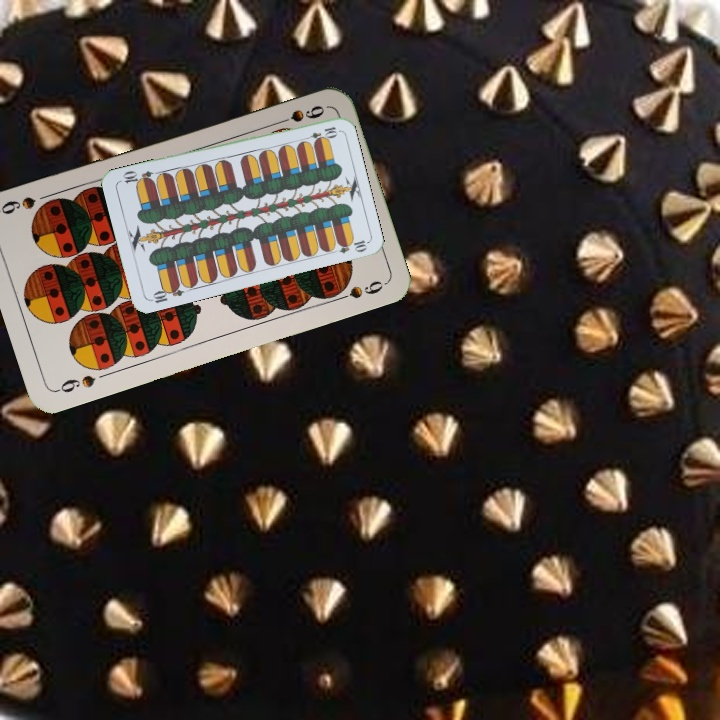E10: (146, 280, 186, 306), (300, 122, 340, 144)
S9: (270, 101, 328, 128), (52, 371, 98, 396)
